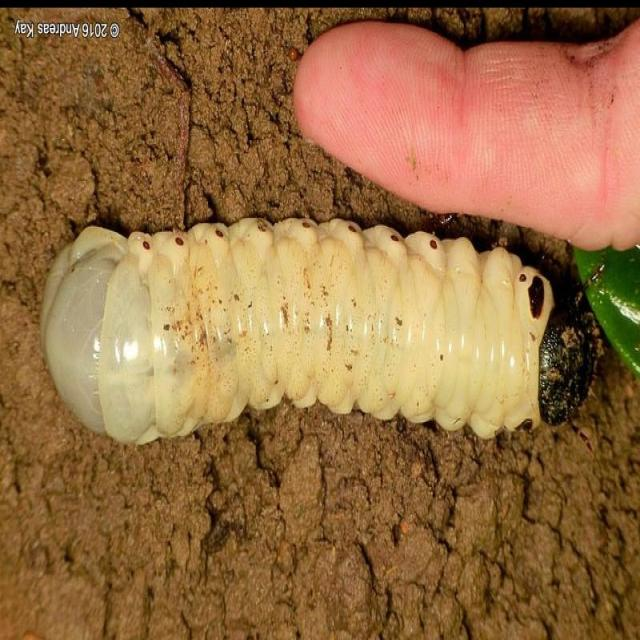grub: (29, 214, 603, 453)
